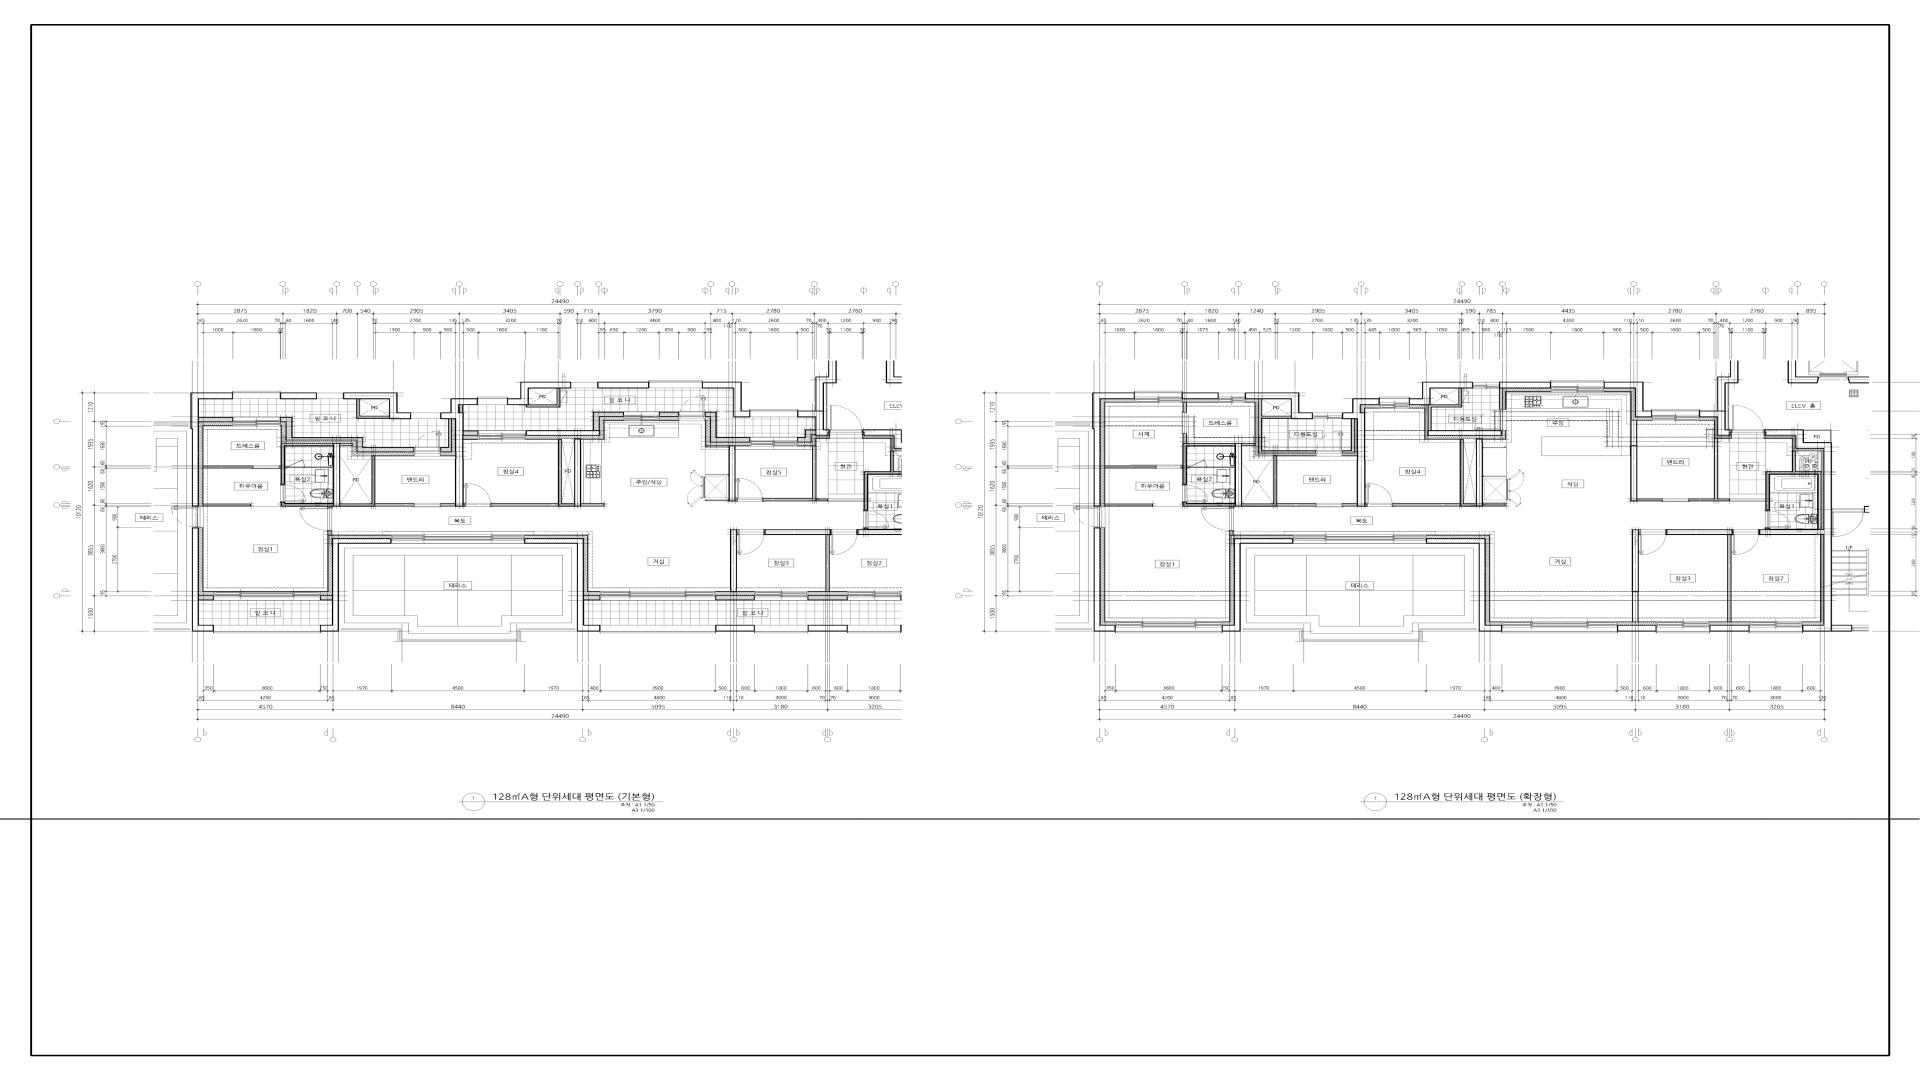door: (829, 405, 862, 433), (1731, 405, 1764, 433), (299, 506, 332, 531), (1201, 506, 1234, 531), (1731, 530, 1760, 555), (737, 530, 765, 555), (1639, 530, 1667, 555), (831, 530, 857, 555), (736, 479, 764, 502), (464, 483, 491, 506), (1316, 430, 1342, 454), (1366, 483, 1393, 506), (171, 506, 200, 527), (1072, 506, 1101, 527), (679, 396, 705, 418), (414, 431, 440, 454), (1474, 410, 1503, 430), (864, 510, 889, 530), (1183, 484, 1208, 502), (1766, 510, 1791, 529), (281, 484, 306, 502), (1187, 460, 1207, 468), (252, 502, 281, 506), (1182, 413, 1187, 434), (1155, 465, 1183, 469), (253, 465, 281, 469), (414, 504, 440, 508), (1663, 498, 1689, 502), (1316, 504, 1342, 508)
wall: (857, 430, 951, 632), (1760, 430, 1832, 632), (1183, 434, 1316, 506), (281, 443, 414, 506), (1393, 438, 1506, 506), (491, 438, 604, 506), (525, 538, 600, 632), (1427, 538, 1502, 632), (320, 538, 392, 632), (1222, 538, 1294, 632), (1667, 530, 1731, 622), (190, 393, 233, 506), (1092, 393, 1134, 506), (281, 417, 414, 452), (1766, 451, 1821, 530), (864, 451, 919, 530), (440, 398, 479, 506), (765, 530, 831, 591), (1342, 398, 1379, 506), (764, 446, 828, 501), (1428, 389, 1502, 435), (1258, 400, 1316, 454), (798, 360, 837, 436), (1700, 360, 1739, 436), (1630, 421, 1663, 501), (1689, 438, 1730, 501), (1093, 527, 1116, 632), (526, 411, 624, 435), (281, 443, 334, 485), (193, 527, 214, 632), (343, 393, 411, 419), (1245, 393, 1313, 419), (702, 382, 750, 418), (705, 446, 736, 501), (1605, 382, 1651, 418), (508, 382, 571, 405), (1410, 382, 1473, 405), (705, 411, 750, 443), (886, 360, 918, 384), (356, 400, 389, 419), (526, 389, 560, 407), (1633, 530, 1639, 622), (597, 381, 650, 389), (1342, 419, 1354, 454), (731, 530, 737, 591), (440, 419, 452, 452), (1499, 382, 1551, 389), (902, 430, 930, 442), (715, 625, 756, 632), (808, 625, 848, 632), (808, 595, 848, 601), (1710, 625, 1749, 632), (1618, 625, 1656, 632), (716, 595, 754, 601), (280, 393, 316, 400), (798, 430, 816, 443), (1183, 393, 1218, 400), (199, 417, 233, 422), (945, 377, 968, 384), (901, 595, 922, 601), (1105, 465, 1155, 468), (203, 465, 253, 468), (203, 504, 252, 506), (1105, 504, 1153, 506), (659, 411, 679, 417), (1499, 389, 1503, 410), (584, 595, 600, 600), (320, 595, 332, 601), (464, 430, 479, 435), (199, 595, 214, 600), (1183, 402, 1187, 413), (1342, 504, 1357, 506), (440, 504, 455, 506), (963, 506, 968, 513), (1229, 531, 1233, 535), (327, 531, 331, 535)
window: (1502, 621, 1618, 633), (1116, 621, 1222, 633), (1294, 534, 1427, 543), (392, 534, 525, 543), (600, 591, 716, 601), (214, 591, 320, 600), (600, 625, 716, 633), (214, 625, 320, 633), (1551, 380, 1605, 393), (1656, 621, 1710, 633), (1749, 621, 1803, 633), (1651, 409, 1700, 421), (1134, 392, 1183, 404), (750, 436, 798, 447), (479, 430, 526, 440), (754, 591, 808, 600), (848, 591, 901, 600), (232, 417, 281, 426), (754, 625, 808, 633), (848, 625, 901, 633), (649, 380, 702, 388), (750, 409, 798, 417), (233, 392, 280, 400), (1379, 397, 1410, 409), (624, 411, 659, 421), (1218, 393, 1245, 404), (477, 397, 508, 405), (1313, 413, 1342, 419), (411, 413, 440, 419), (1473, 382, 1499, 389), (316, 393, 343, 400), (571, 382, 597, 388), (951, 625, 967, 632)
